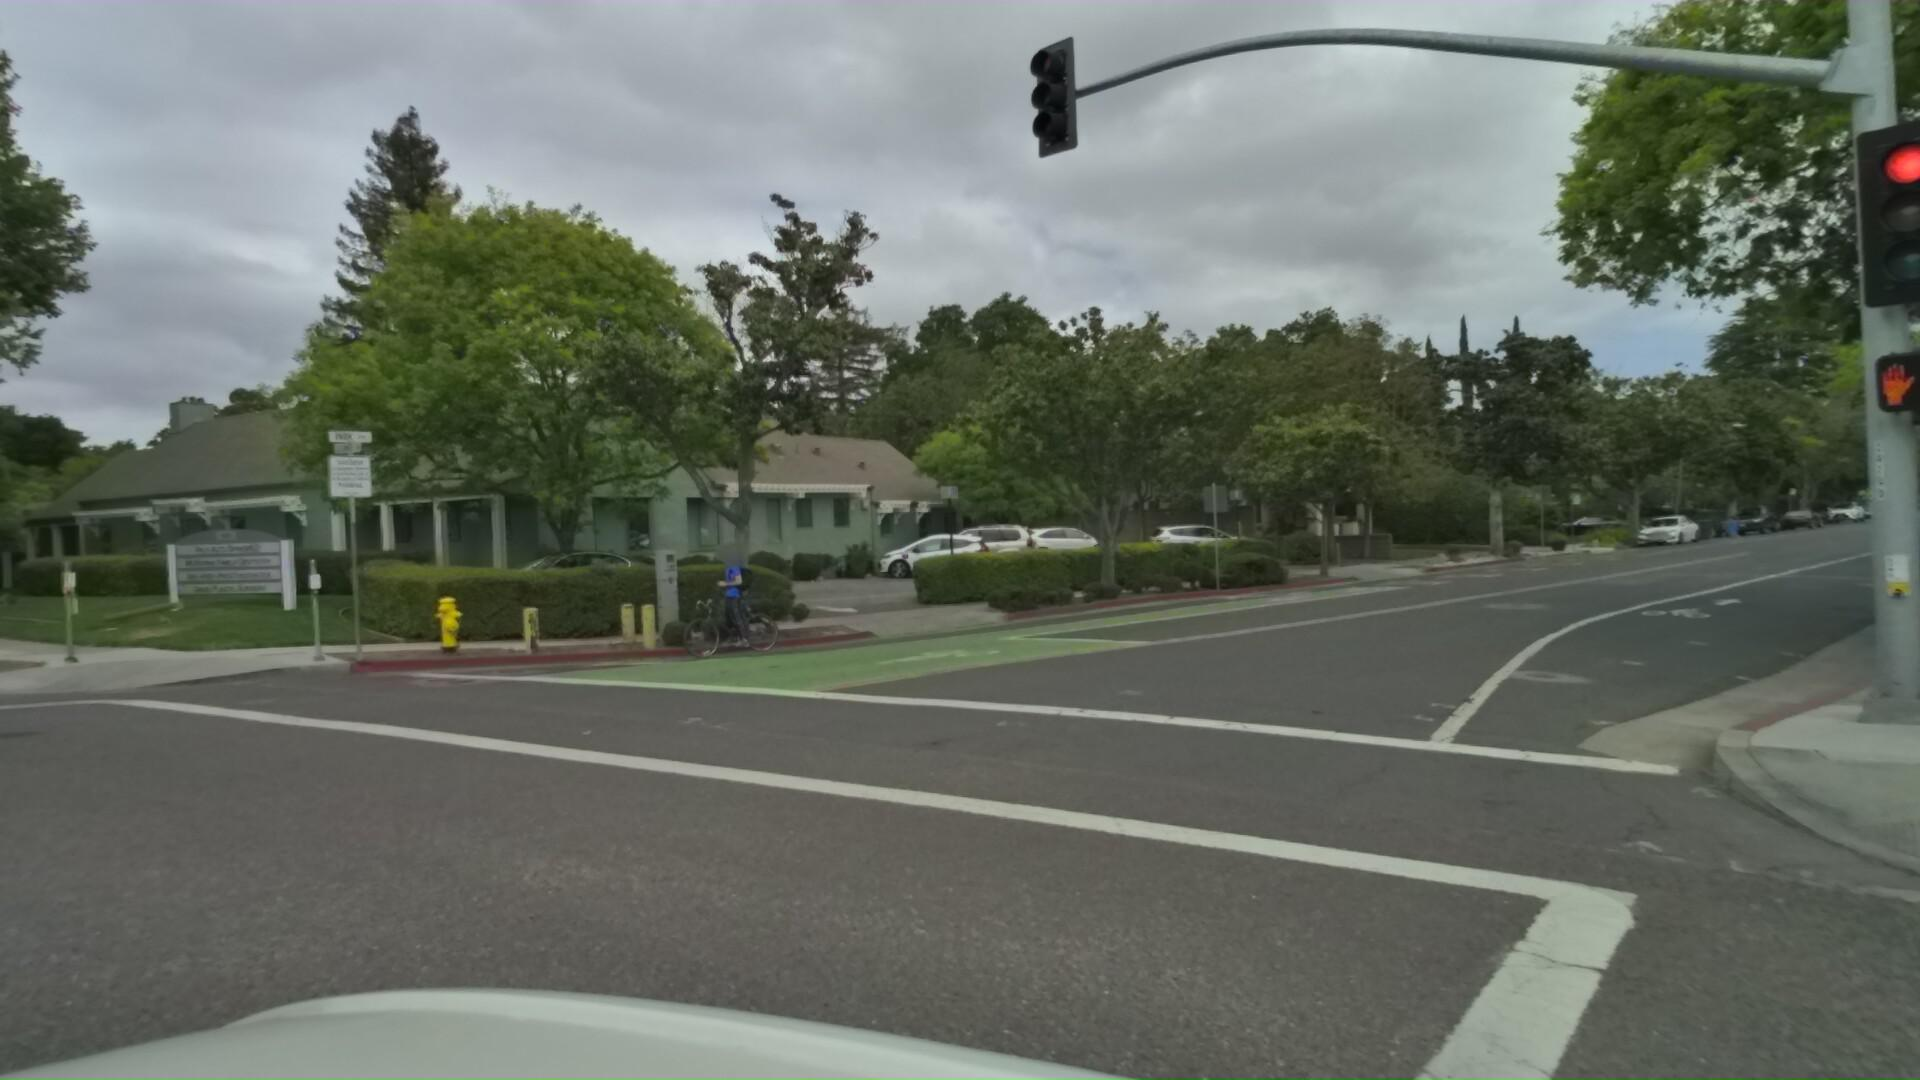bicycle: (675, 537, 808, 661)
car: (451, 539, 676, 642), (1153, 514, 1271, 560), (1201, 527, 1295, 568), (1640, 504, 1714, 542), (1729, 496, 1785, 527)
